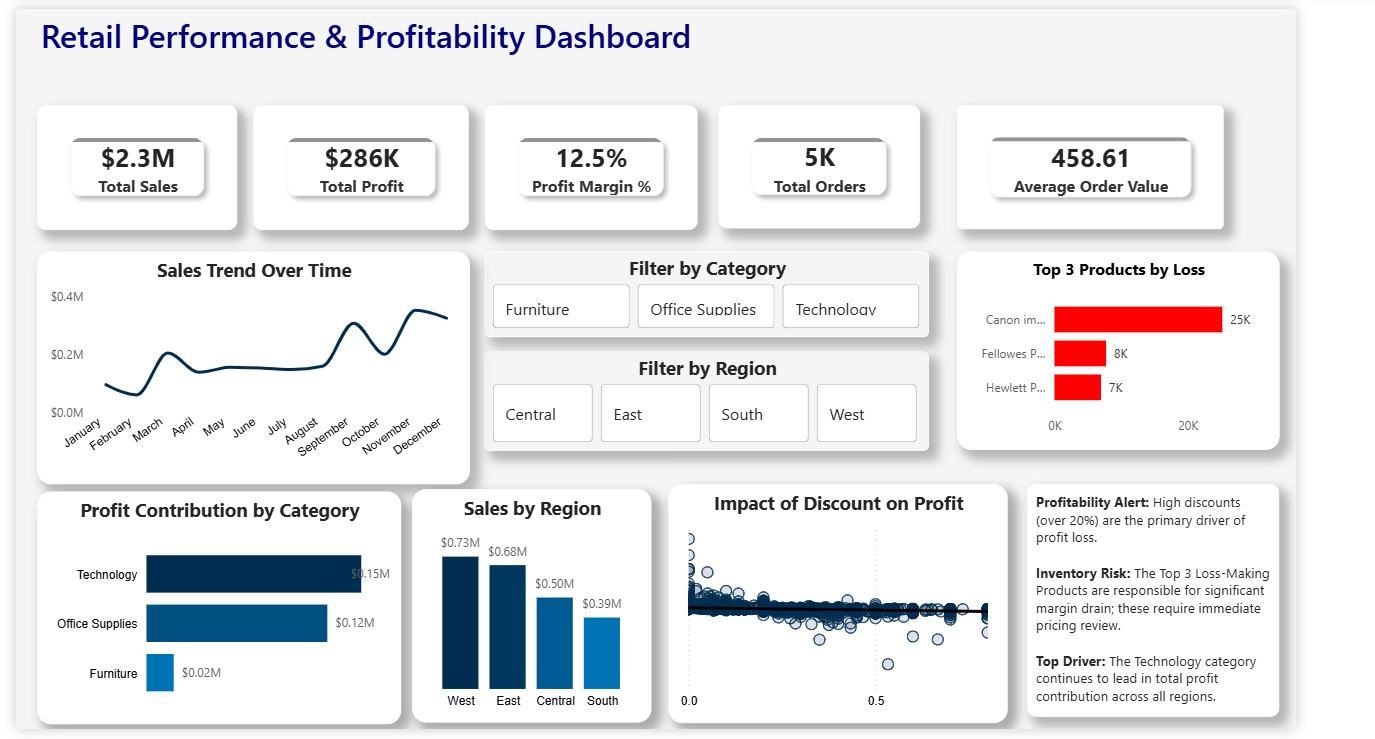

This screenshot's page, from the dashboard's own definition file:
{"tool":"powerbi","page":{"name":"Page 1","canvas":[1280,720],"ordinal":0},"visuals":[{"type":"cardVisual","fields":{"Data":["clened_superstore.SumOfSales"]},"box":[20.8,96.1,200,124.7],"z":0},{"type":"cardVisual","fields":{"Data":["clened_superstore.Total Profit"]},"box":[237.7,96.1,215.6,124.7],"z":1000},{"type":"cardVisual","fields":{"Data":["clened_superstore.Total Orders"]},"box":[702.6,96.1,201.3,123.4],"z":2000},{"type":"cardVisual","fields":{"Data":["clened_superstore.Profit Margin %"]},"box":[468.8,96.1,213,124.7],"z":3000},{"type":"lineChart","title":"Sales Trend Over Time","fields":{"Y":["clened_superstore.Total Sales"],"Category":["clened_superstore.Month"]},"box":[20.8,242.9,432.5,232.5],"z":4000},{"type":"clusteredBarChart","title":"Profit Contribution by Category","fields":{"Category":["clened_superstore.Sub-Category","clened_superstore.Category"],"Y":["clened_superstore.Total Profit"]},"box":[20.8,483.1,363.6,232.5],"z":5000},{"type":"clusteredColumnChart","title":"Sales by Region","fields":{"Category":["clened_superstore.Region"],"Y":["clened_superstore.Total Sales"]},"box":[396.1,480.5,239,233.8],"z":6000},{"type":"scatterChart","title":"Impact of Discount on Profit","fields":{"X":["Avg(clened_superstore.Discount)"],"Y":["clened_superstore.Total Profit"],"Category":["clened_superstore.Order ID"]},"box":[651.9,475.3,339,239],"z":7000},{"type":"advancedSlicerVisual","title":"Filter by Category","fields":{"Values":["clened_superstore.Category"]},"box":[469.3,242.5,444,85.7],"z":8000},{"type":"clusteredBarChart","title":"Top 3 Products by Loss","fields":{"Category":["clened_superstore.Product Name"],"Y":["Sum(clened_superstore.Profit)"]},"box":[941.6,242.9,322.1,198.7],"z":9000},{"type":"advancedSlicerVisual","title":"Filter by Region","fields":{"Values":["clened_superstore.Region"]},"box":[469.3,342.6,444,98.9],"z":10000},{"type":"textbox","box":[1011.7,475.3,251.9,232.5],"z":11000},{"type":"textbox","box":[20.5,0,752.8,66.4],"z":12000},{"type":"cardVisual","fields":{"Data":["clened_superstore.Average Order Value"]},"box":[941,96.5,266.6,124.3],"z":12001}]}

Visuals, with their boxes on the page's 1280x720 design canvas (x1, y1, x2, y2). These are canvas units, not pixel positions in the 1375x739 screenshot, which may show the page scaled, cropped or inside an application window:
cardVisual - clened_superstore.SumOfSales: (left=21, top=96, right=221, bottom=221)
cardVisual - clened_superstore.Total Profit: (left=238, top=96, right=453, bottom=221)
cardVisual - clened_superstore.Total Orders: (left=703, top=96, right=904, bottom=220)
cardVisual - clened_superstore.Profit Margin %: (left=469, top=96, right=682, bottom=221)
"Sales Trend Over Time" lineChart: (left=21, top=243, right=453, bottom=475)
"Profit Contribution by Category" clusteredBarChart: (left=21, top=483, right=384, bottom=716)
"Sales by Region" clusteredColumnChart: (left=396, top=480, right=635, bottom=714)
"Impact of Discount on Profit" scatterChart: (left=652, top=475, right=991, bottom=714)
"Filter by Category" advancedSlicerVisual: (left=469, top=242, right=913, bottom=328)
"Top 3 Products by Loss" clusteredBarChart: (left=942, top=243, right=1264, bottom=442)
"Filter by Region" advancedSlicerVisual: (left=469, top=343, right=913, bottom=442)
textbox: (left=1012, top=475, right=1264, bottom=708)
textbox: (left=20, top=0, right=773, bottom=66)
cardVisual - clened_superstore.Average Order Value: (left=941, top=96, right=1208, bottom=221)
